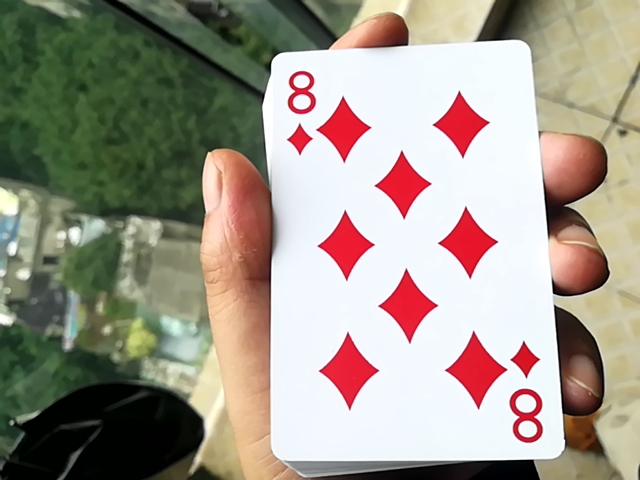fk 8: (248, 46, 560, 460)
